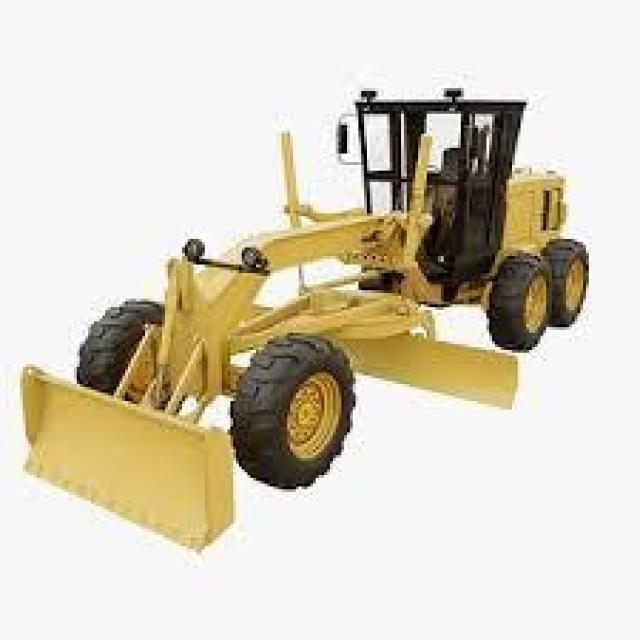Grader: (25, 88, 626, 535)
